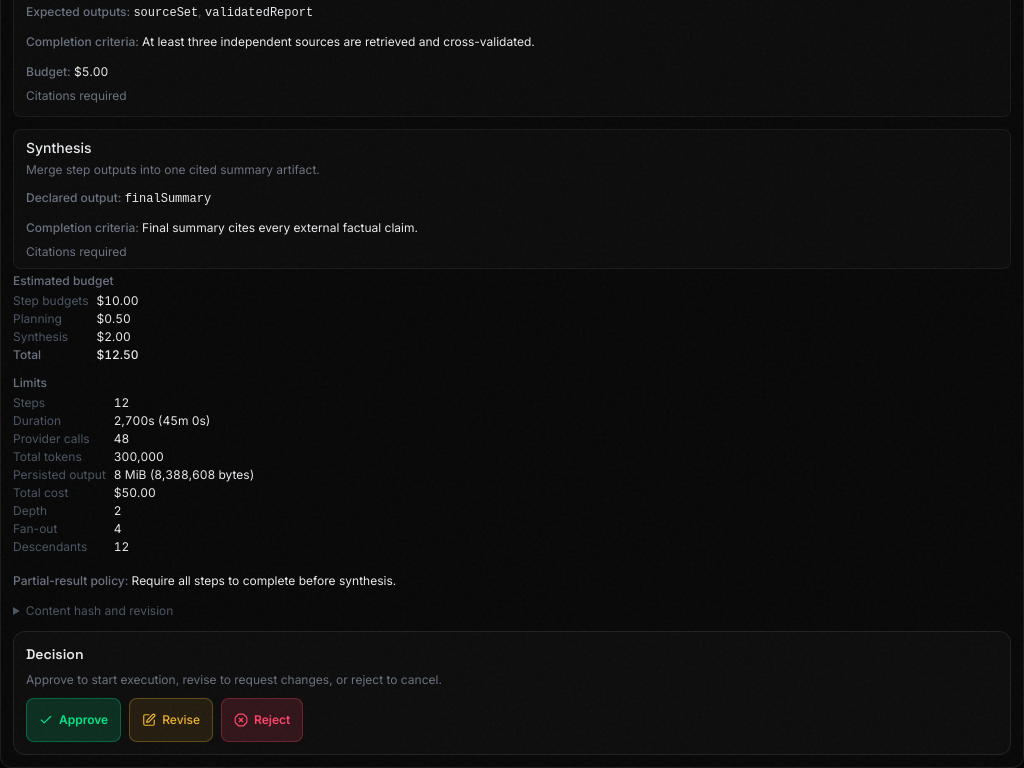
Scenario: Mission plan decision accessibility (m3-f08) › VAL-PLAN-082: Keyboard user can revise and reject › preserves typed reason after a recoverable error on reject via keyboard
(page scrolled)
Click the button with test id "plan-reject-button".
click(262, 720)  # box [221, 698, 303, 742]
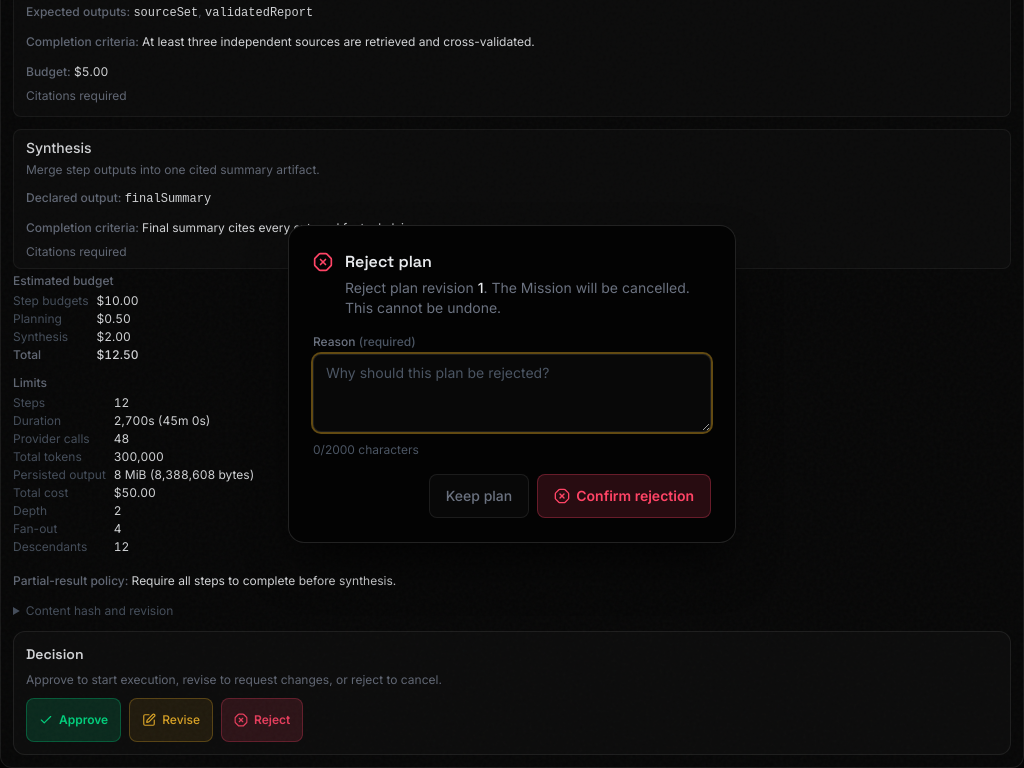
Type "Budget too high." into the text box labelled "Reason (required)".
click(512, 393); type("Budget too high.")  # box [313, 354, 711, 432]
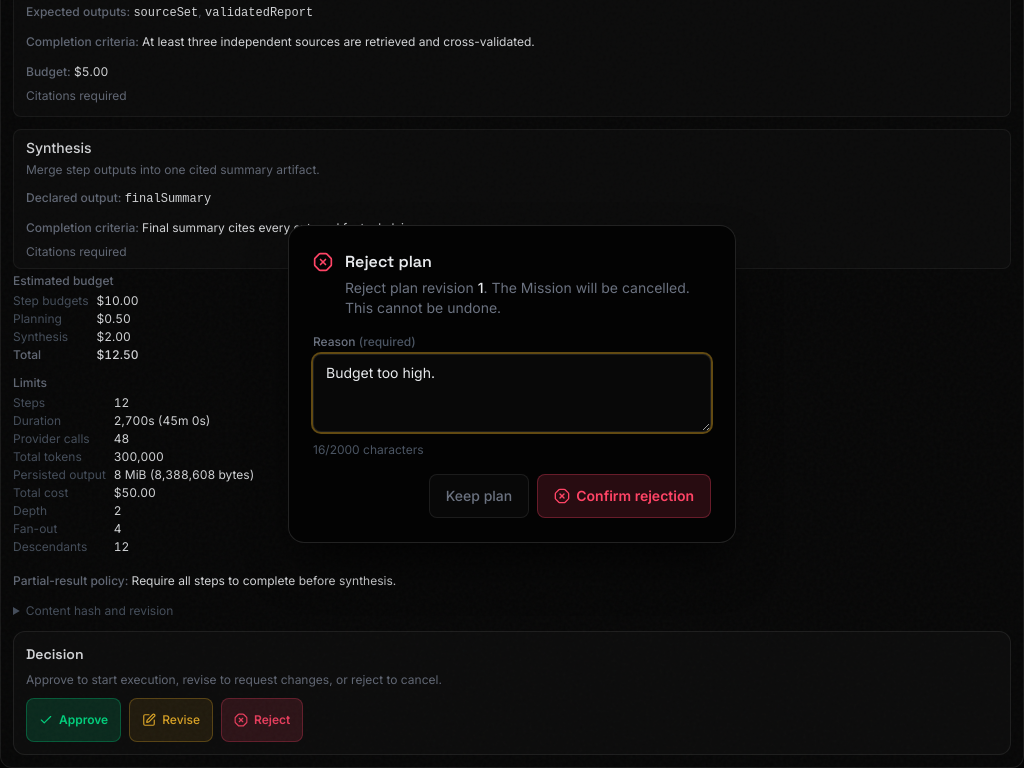
Click the button "Confirm rejection".
click(624, 496)  # box [537, 474, 711, 518]
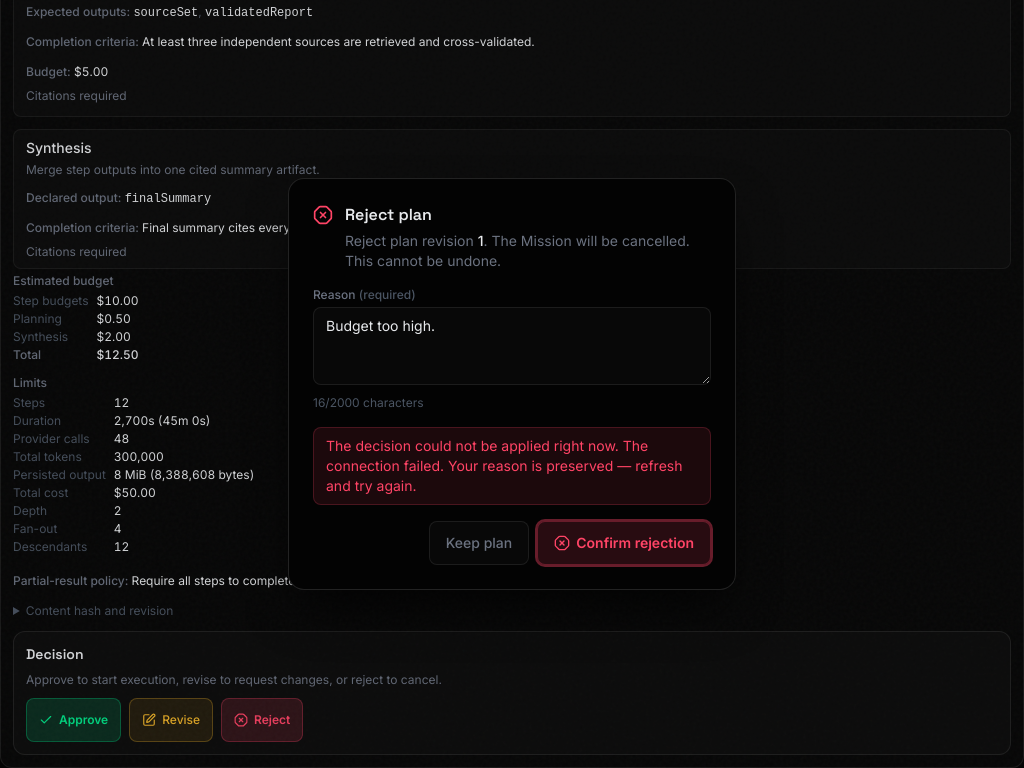
Expected: the message is shown, [313, 427, 711, 505]
